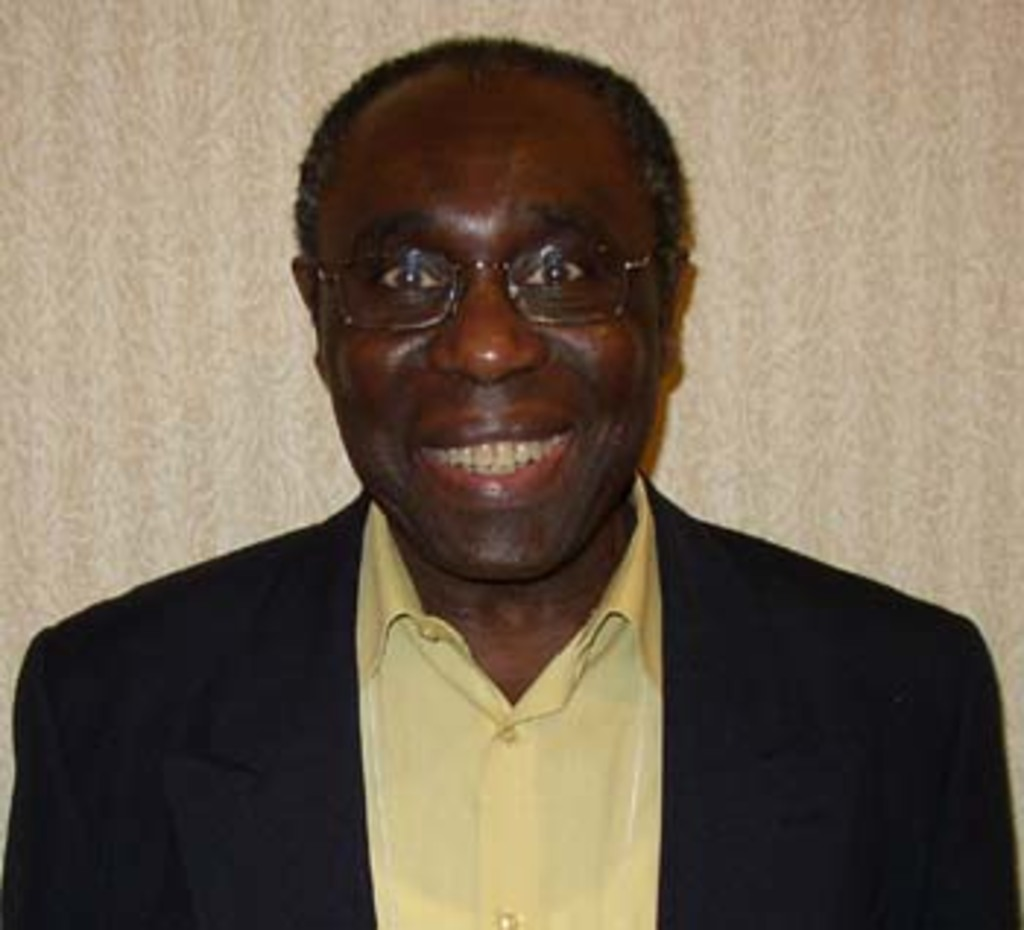Person: (0, 34, 1024, 930)
